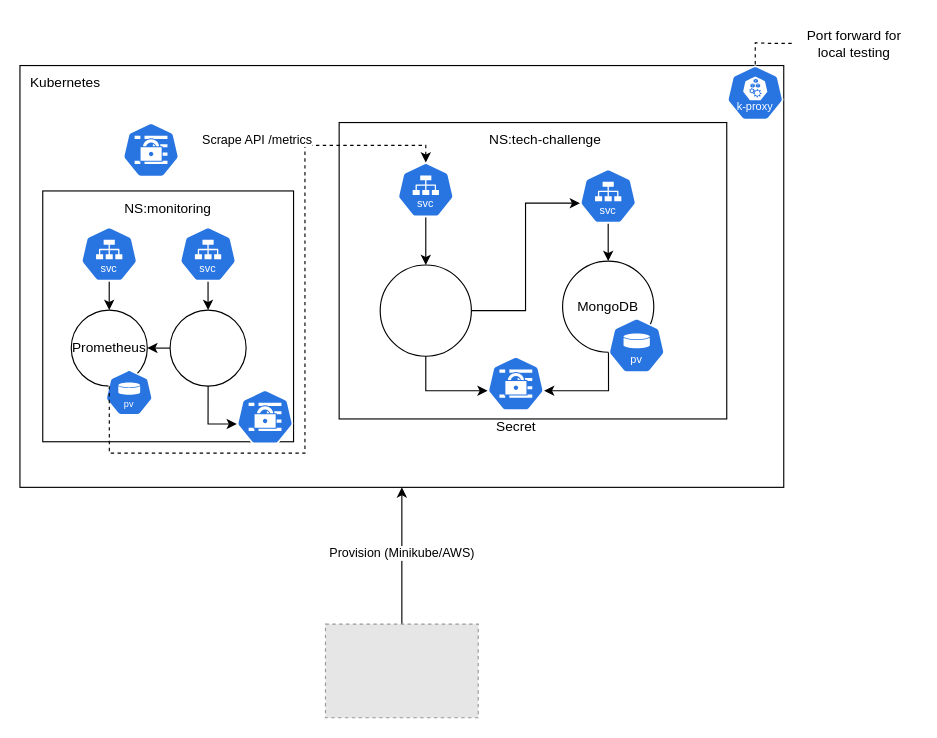
This 937x738 diagram has some shape labels left out. Grey dashed boxes stand in for pictures. The shapes that lost their labels are listed below. From the top down, each one's centre as x and y in pixels, then its label:
point 425,310: NestJS APP
point 207,347: Grafana
